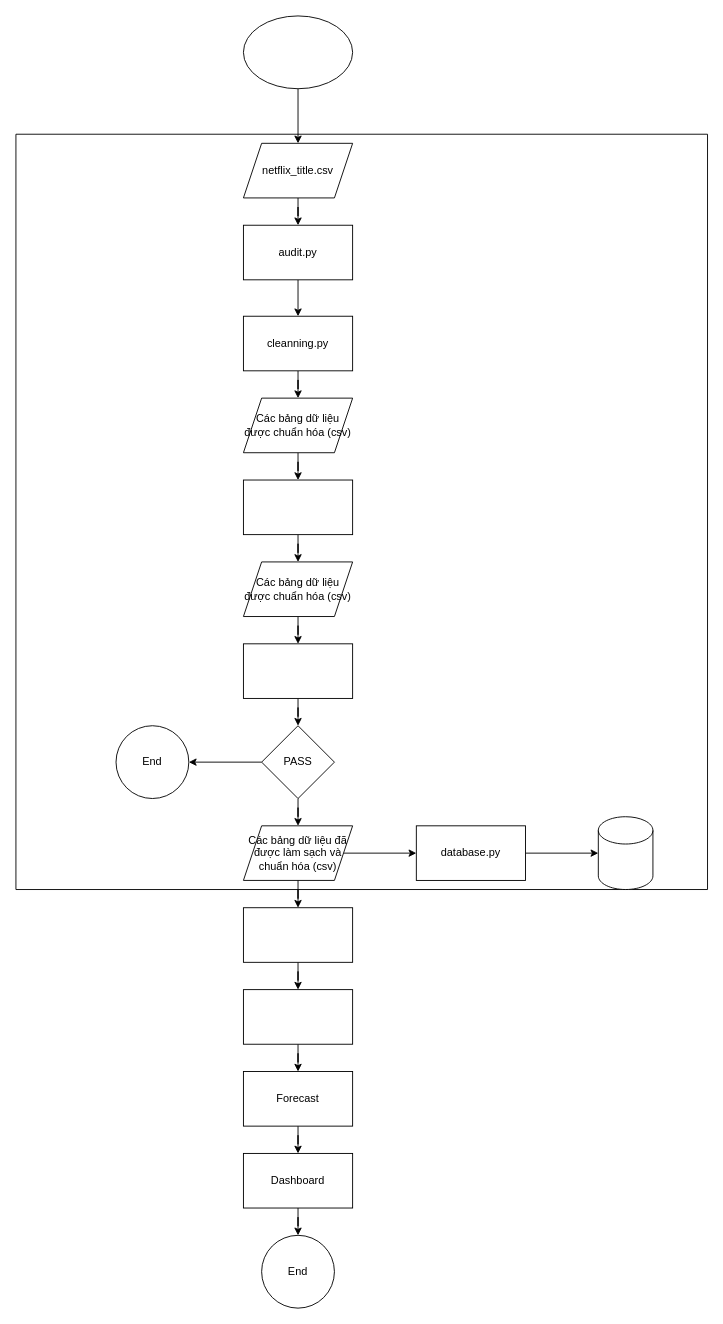
The diagram is 723 pixels wide and 1324 high, and some of its shapes have lost their labels. The shapes that lost their labels are listed below. From the top down, each one's centre as x and y in pixels, then its label:
At (x=298, y=52): "Start".
At (x=298, y=507): "normalization.py".
At (x=298, y=670): "validation.py".
At (x=625, y=853): "netflix.db".
At (x=298, y=934): "EDA".
At (x=298, y=1016): "Insight".
